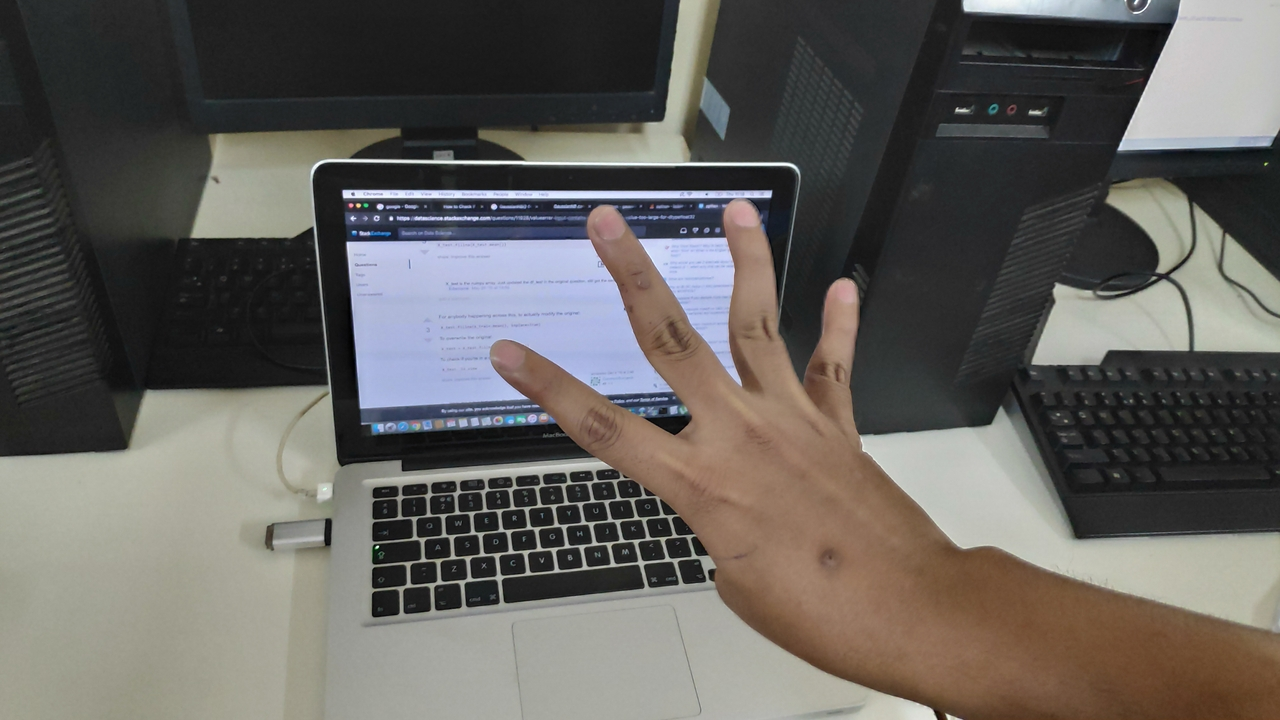fingertip: (578, 194, 640, 252), (712, 192, 772, 244), (818, 266, 872, 316), (476, 335, 535, 380)
